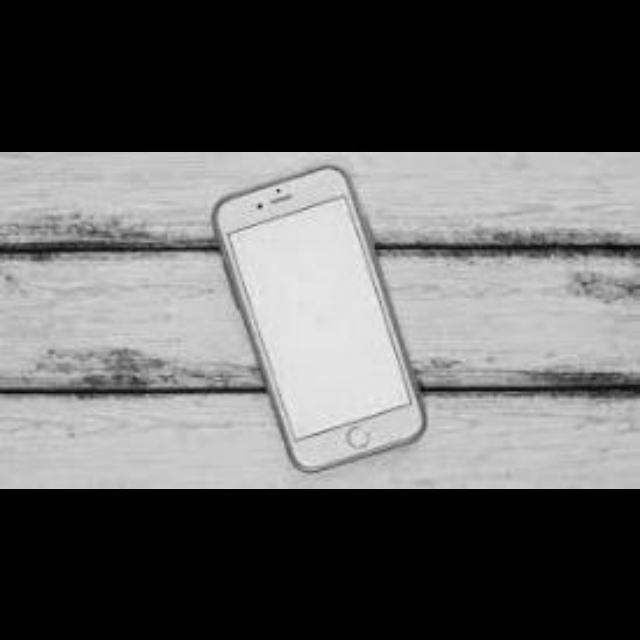fake: (188, 160, 458, 475)
